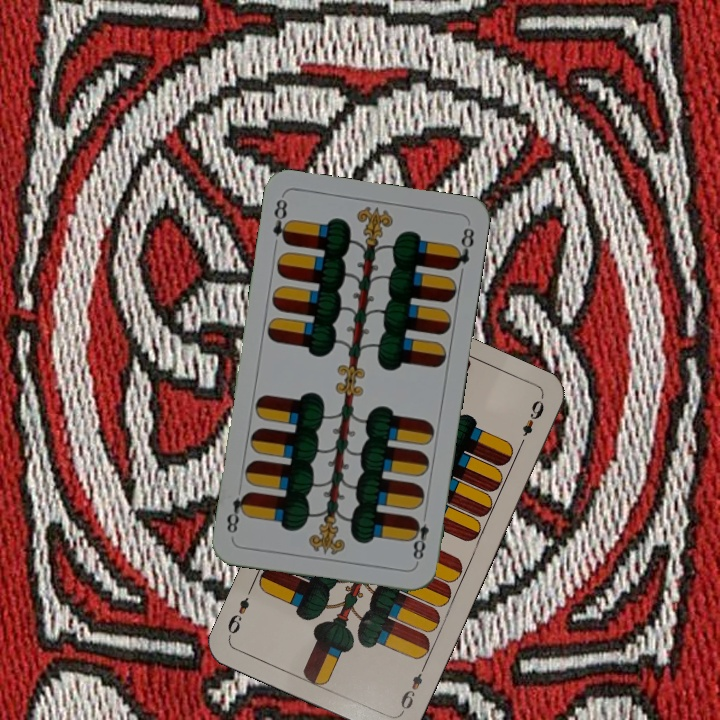E8: (406, 513, 432, 567), (268, 195, 294, 248)
E9: (396, 661, 429, 717)
